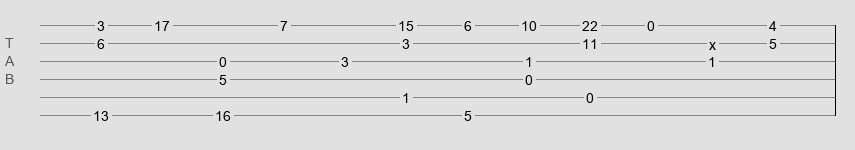0: (219, 54, 227, 64), (525, 72, 533, 82), (586, 90, 594, 100), (647, 18, 655, 28)
1: (402, 90, 410, 100), (525, 54, 533, 64), (708, 54, 716, 64)
10: (521, 18, 537, 28)
11: (582, 36, 598, 46)
13: (93, 108, 109, 118)
15: (398, 18, 414, 28)
16: (215, 108, 231, 118)
17: (154, 18, 170, 28)
22: (582, 18, 598, 28)
3: (97, 18, 105, 28), (341, 54, 349, 64), (402, 36, 410, 46)
4: (769, 18, 777, 28)
5: (219, 72, 227, 82), (464, 108, 472, 118), (769, 36, 777, 46)
6: (97, 36, 105, 46), (464, 18, 472, 28)
7: (280, 18, 288, 28)
x: (709, 37, 716, 45)
